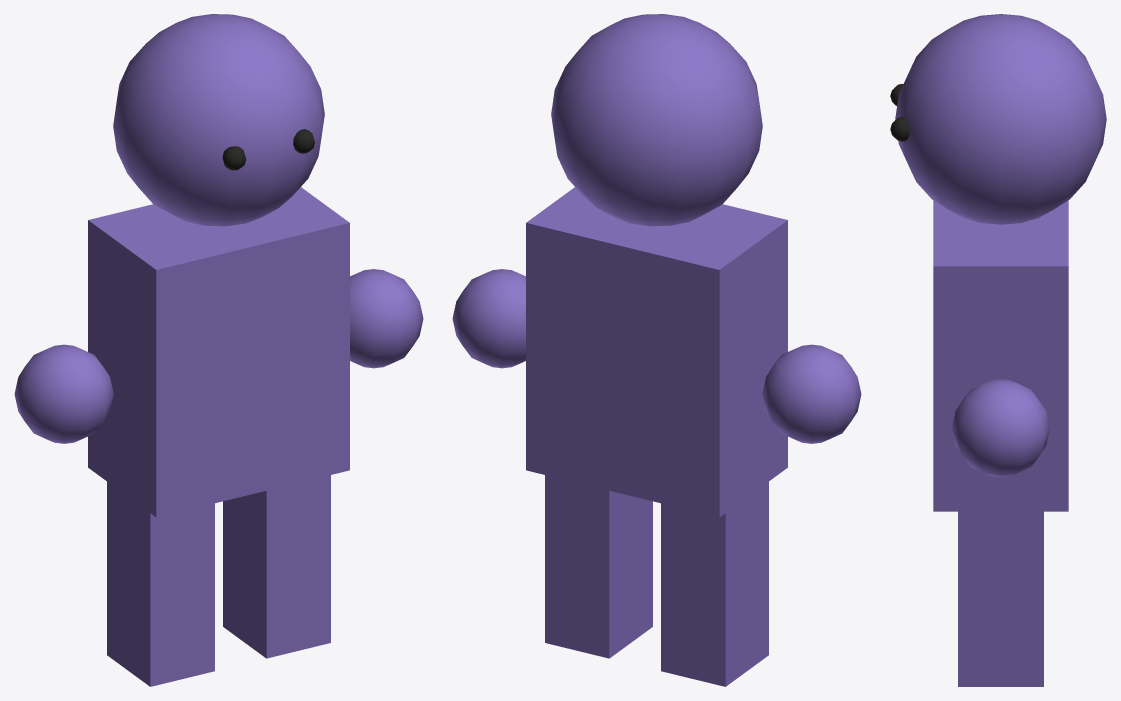
The model's file is demo-1.glb.
3 views of the same model, side by side, from view 1: azimuth 30°, elevation 25°; view 2: azimuth 150°, elevation 25°; view 3: azimuth 270°, elevation 25° (orthographic).
Size of the model in its own units: 1.84 by 2.78 by 0.88.
